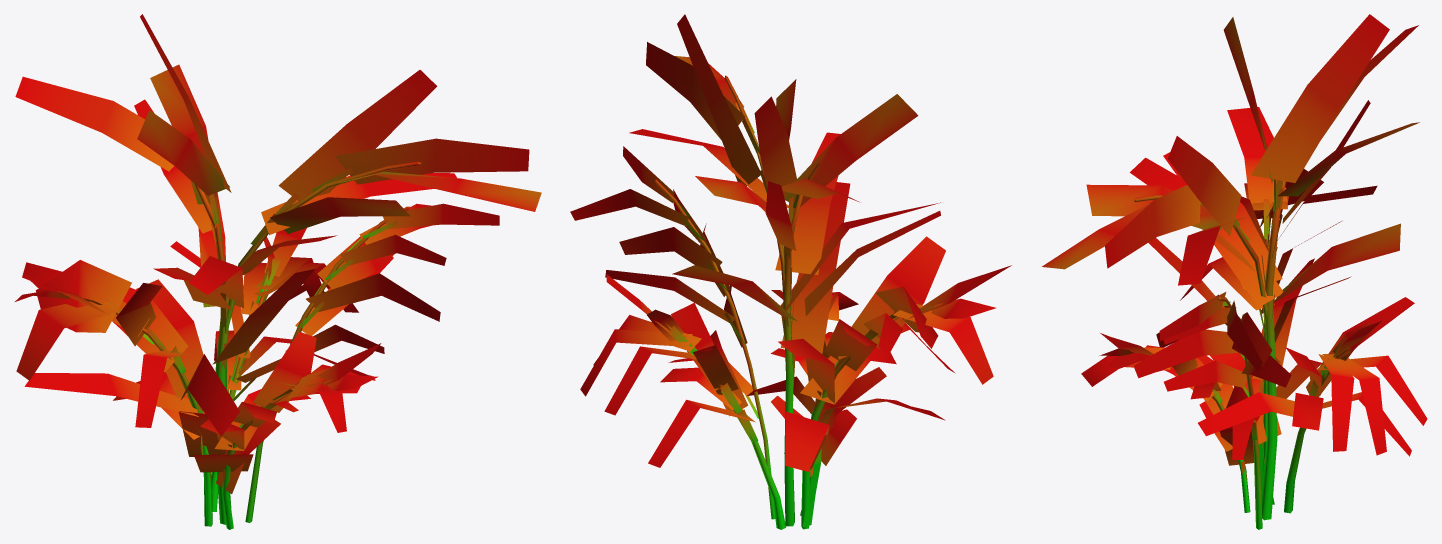
File: Var3_LOD2.fbx
3 views of the same model, side by side, from view 1: azimuth 30°, elevation 25°; view 2: azimuth 150°, elevation 25°; view 3: azimuth 270°, elevation 25° (orthographic). The views are drawn at different scales.
Parts seen in each view (by area): view 1: _887b_Var3_LOD2; view 2: _887b_Var3_LOD2; view 3: _887b_Var3_LOD2.
Part boxes in pixels (x1,y1,x2,y2): _887b_Var3_LOD2: (15,14,541,529); _887b_Var3_LOD2: (570,14,1011,529); _887b_Var3_LOD2: (1042,14,1427,529).
Bounding box in the file's own units: 177 × 187 × 134.
